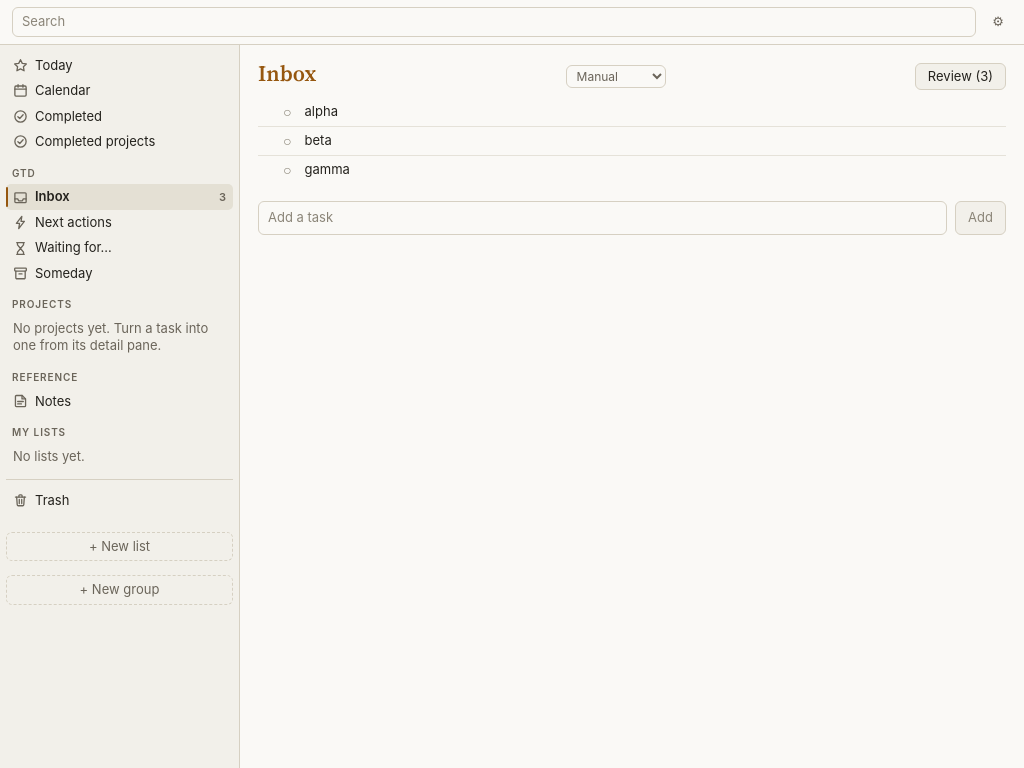
Scenario: The Review sheet › showsTheHeadingTheCountAndTheFirstTask
Click the button "Review (3)" at (960, 76), box [915, 62, 1006, 90]
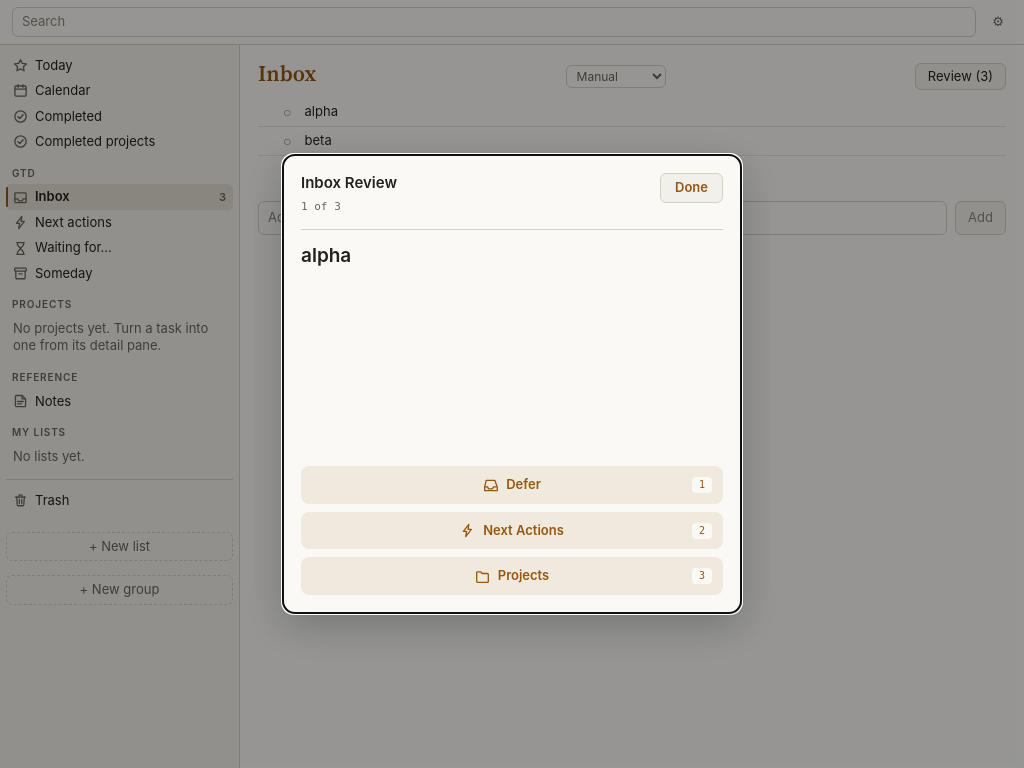
Expected: the heading "Inbox Review" is shown, [301, 173, 397, 193]
Expected: the text "1 of 3" is shown, [301, 200, 341, 213]
Expected: the heading "alpha" is shown, [301, 244, 351, 267]
